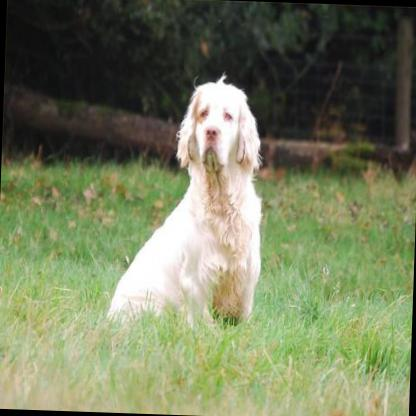clumber: (104, 67, 267, 331)
